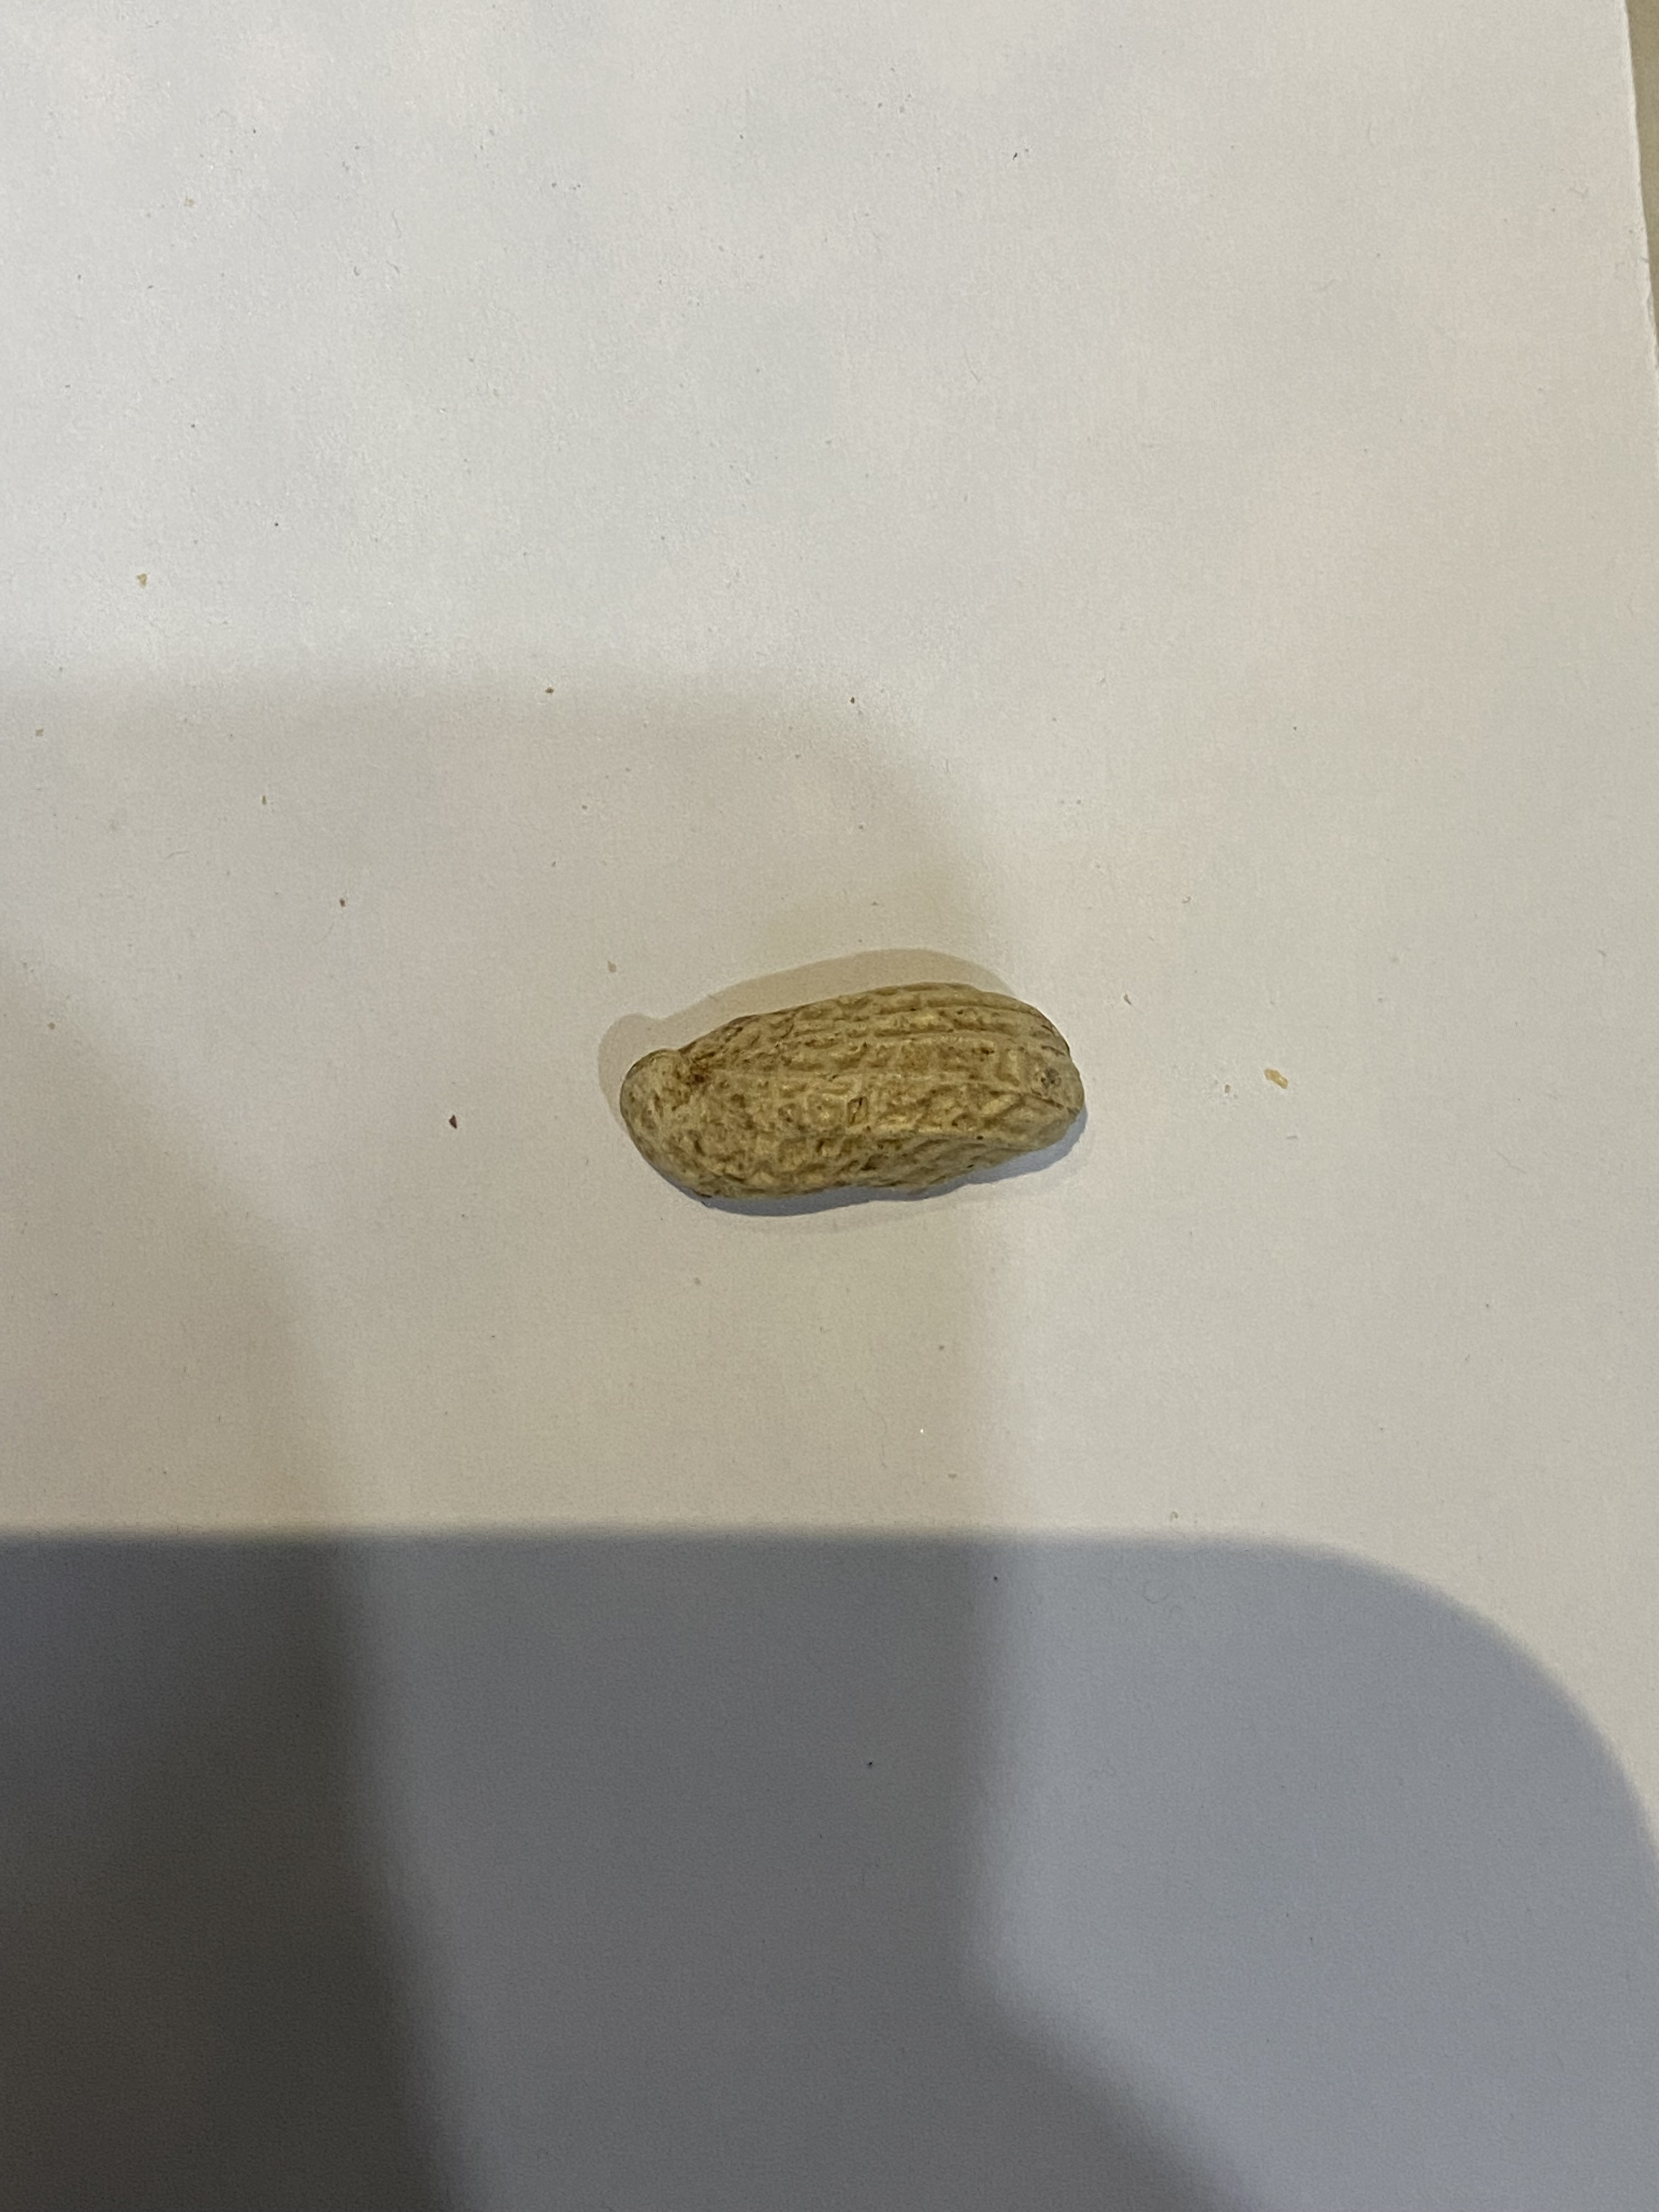kacang2: (592, 977, 1098, 1223)
